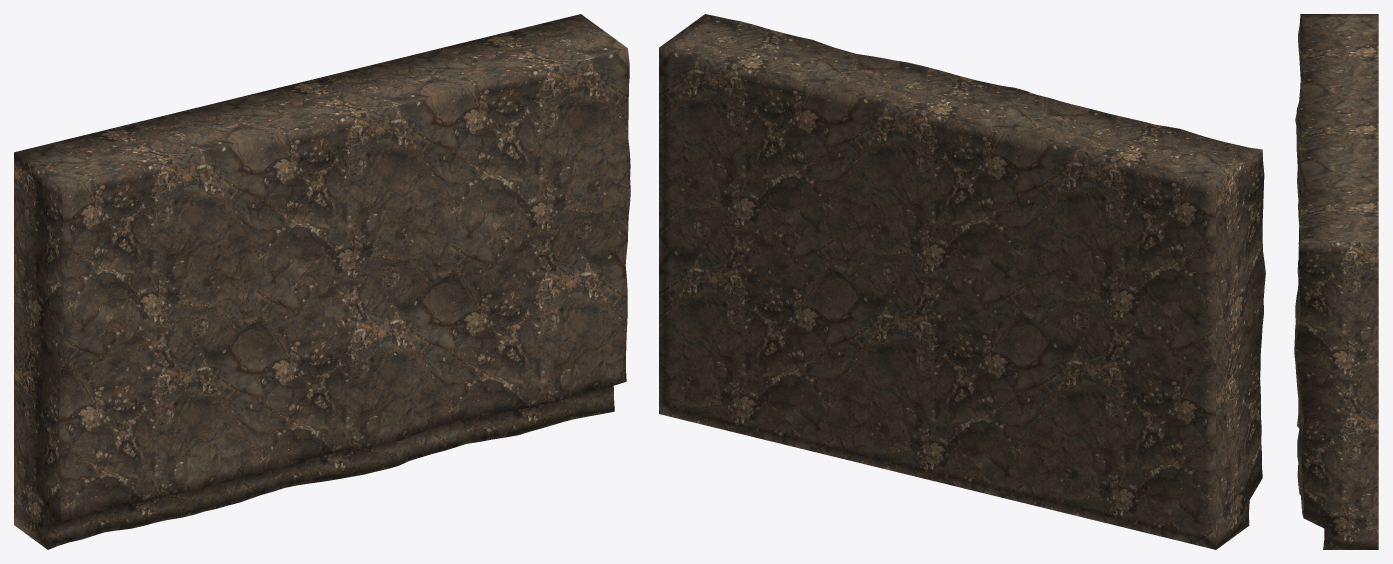
File: mine_face.gltf
3 views of the same model, side by side, from view 1: azimuth 30°, elevation 25°; view 2: azimuth 150°, elevation 25°; view 3: azimuth 270°, elevation 25° (orthographic). The views are drawn at different scales.
Parts seen in each view (by area): view 1: FACE_Wall; view 2: FACE_Wall; view 3: FACE_Wall.
Boxes of the visible parts, x1=… form: FACE_Wall: x1=14, y1=14, x2=630, y2=549; FACE_Wall: x1=659, y1=14, x2=1265, y2=549; FACE_Wall: x1=1294, y1=14, x2=1378, y2=549.
Size of the model in its own units: 7 by 4.4 by 1.1.
1 material, 1 textured.
